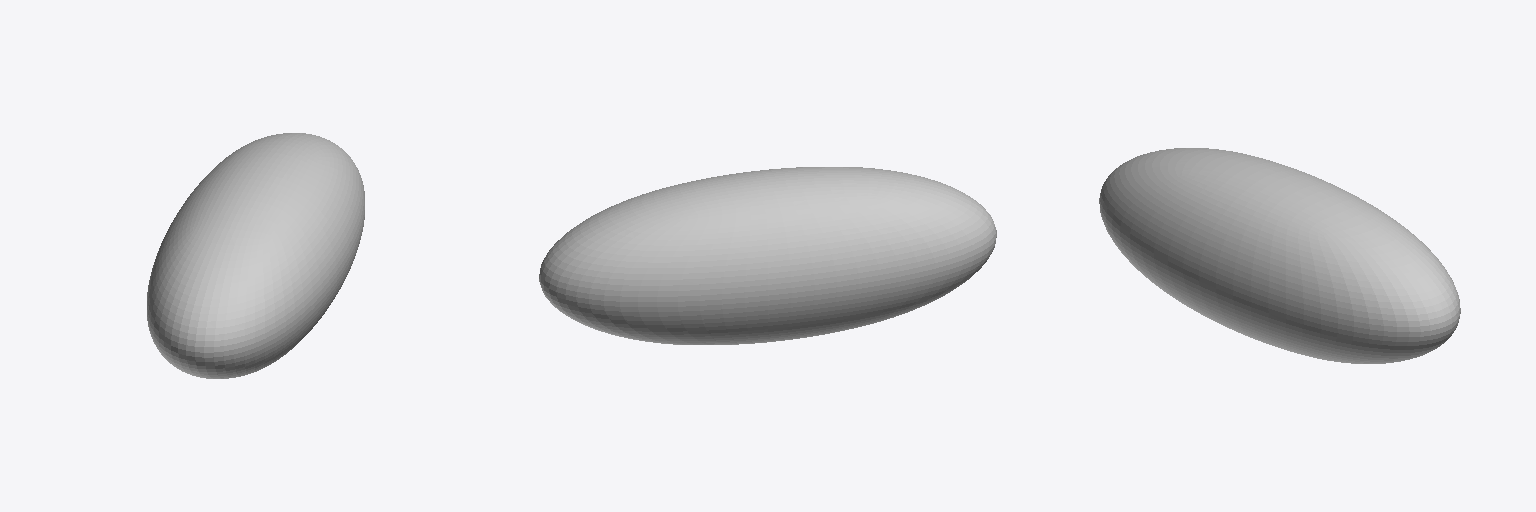
Rendered from nudo2-2.obj.
3 renders of one model, left to right at view 1: azimuth 30°, elevation 25°; view 2: azimuth 150°, elevation 25°; view 3: azimuth 270°, elevation 25°, orthographic.
Parts seen in each view (by area): view 1: nudo2_2_Mesh; view 2: nudo2_2_Mesh; view 3: nudo2_2_Mesh.
Boxes of the visible parts, box(x1,y1,x2,y2) form: nudo2_2_Mesh: box(147, 133, 364, 378); nudo2_2_Mesh: box(539, 167, 996, 344); nudo2_2_Mesh: box(1099, 148, 1460, 363).
Bounding box in the file's own units: 0.8203 × 0.3825 × 0.8203.